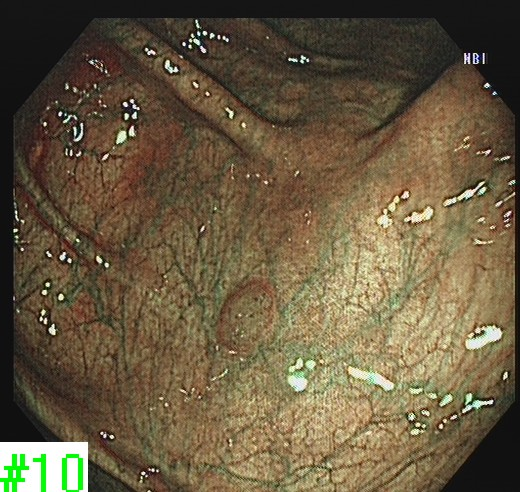adenoma: (215, 279, 277, 355)
